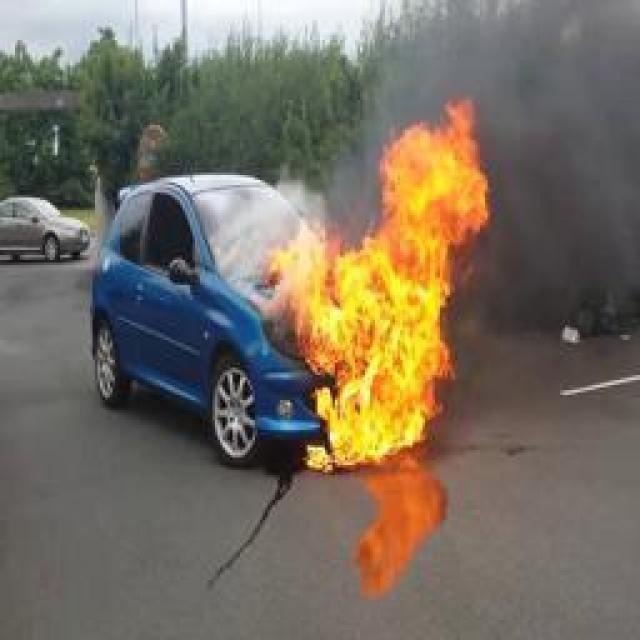Fire: (270, 101, 492, 471)
